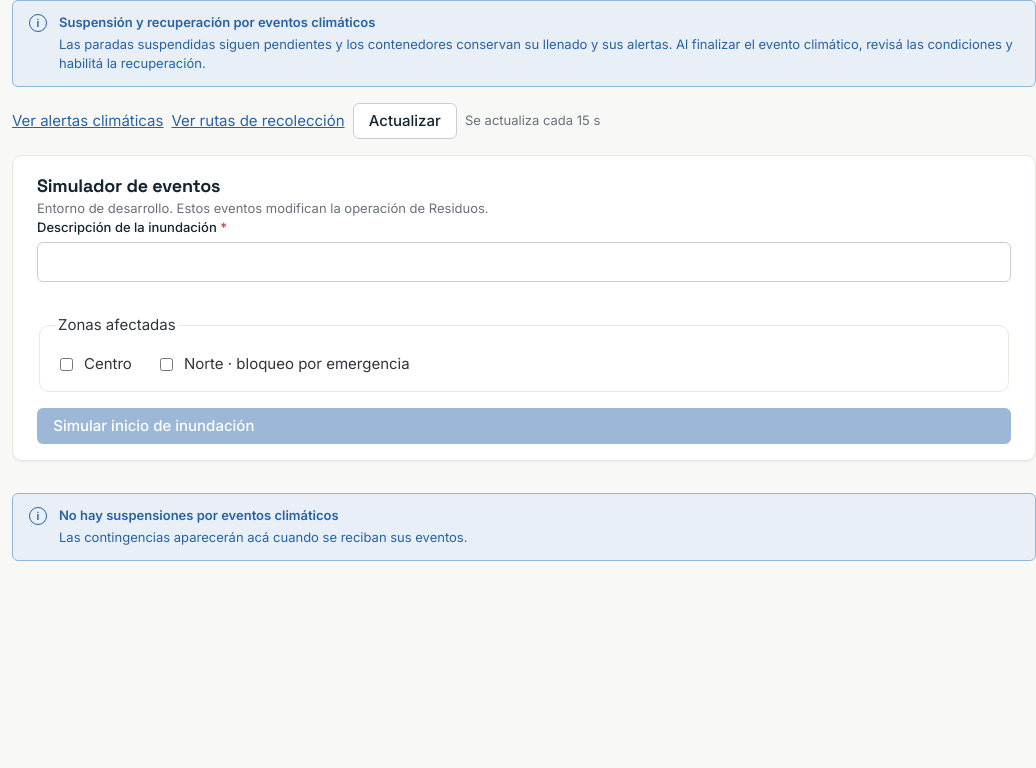
Inundaciones › simula inicio con las zonas seleccionadas y limpia el formulario al completar
The width and height of the screenshot is (1036, 768).
Type "Tormenta de prueba" into the field labelled "Descripción de la inundación *" at (524, 262), box [37, 242, 1011, 282]
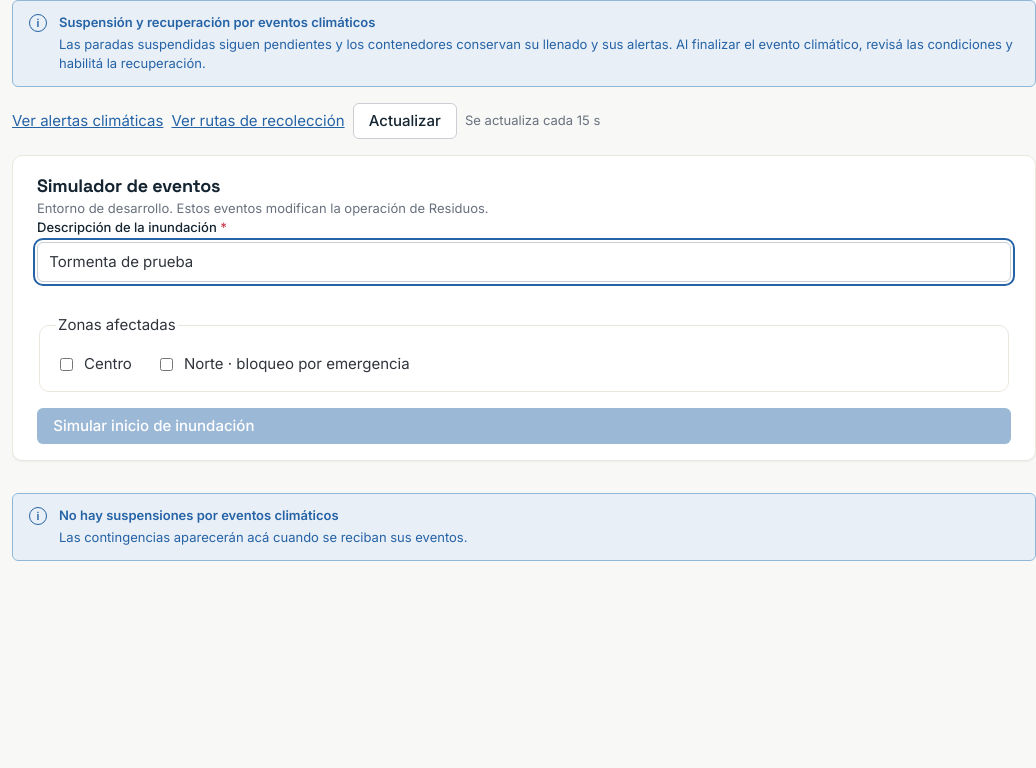
Click the checkbox labelled "Centro" at (66, 364), box [60, 358, 73, 371]
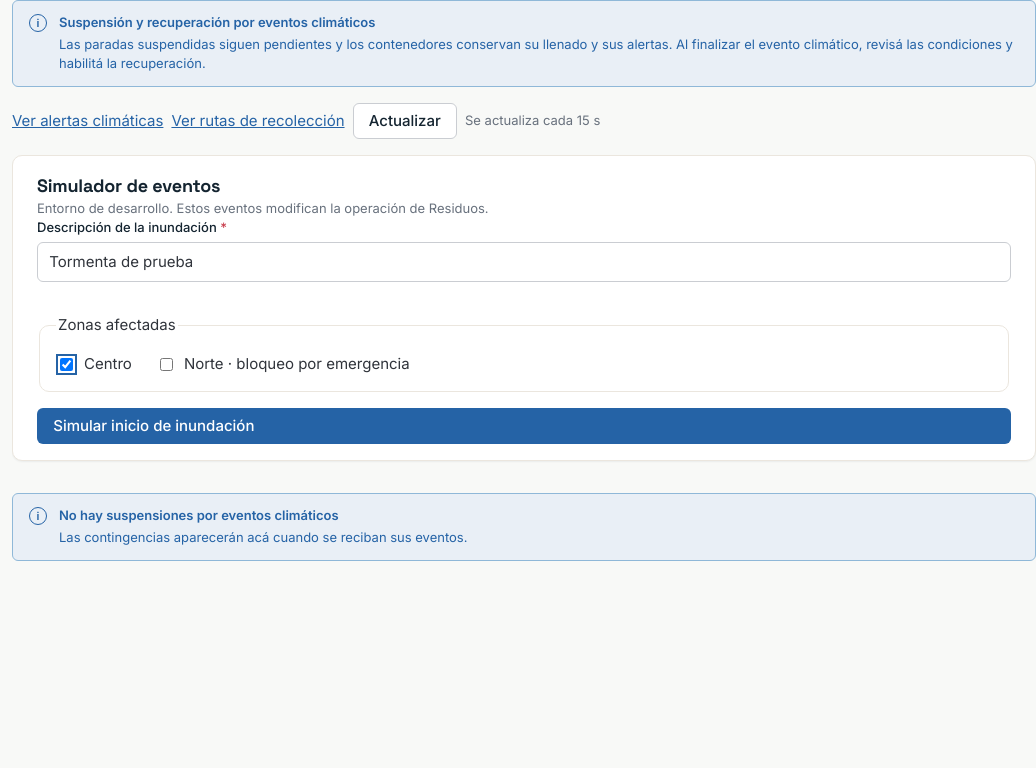
Click the button "Simular inicio de inundación" at (154, 426), box [37, 408, 1011, 444]
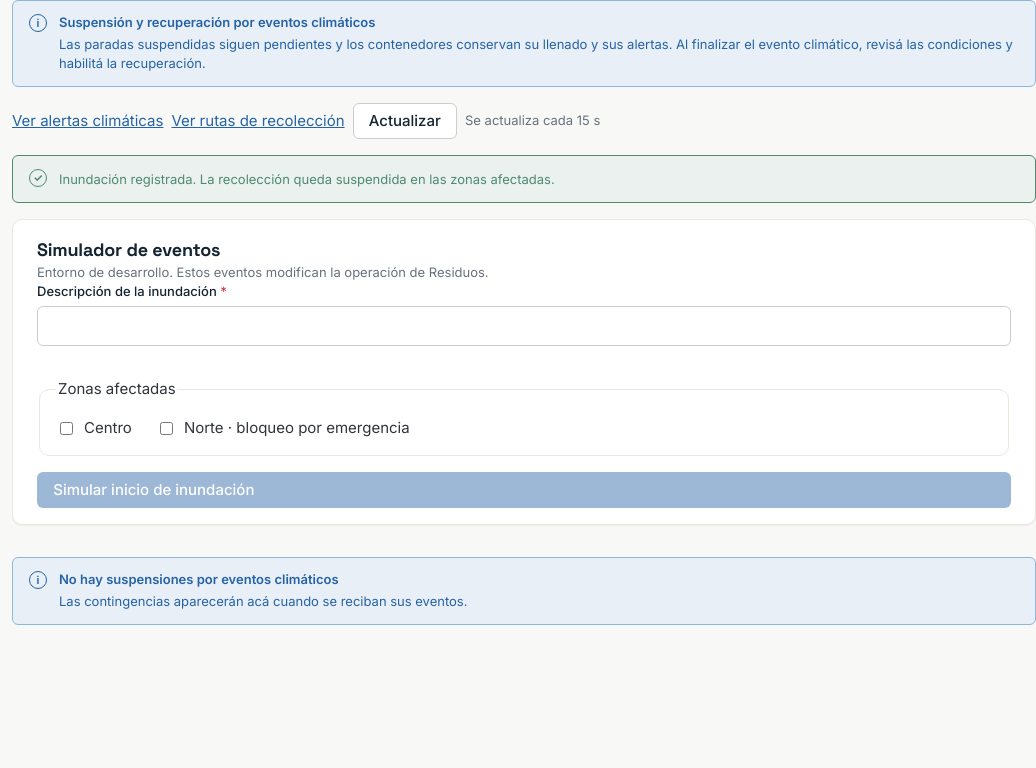
Expected: the checkbox labelled "Centro" is not checked, [60, 422, 73, 434]
Expected: the text "Inundación registrada" is shown, [59, 171, 555, 187]
Expected: the field labelled "Descripción de la inundación *" is empty, [37, 306, 1011, 346]
